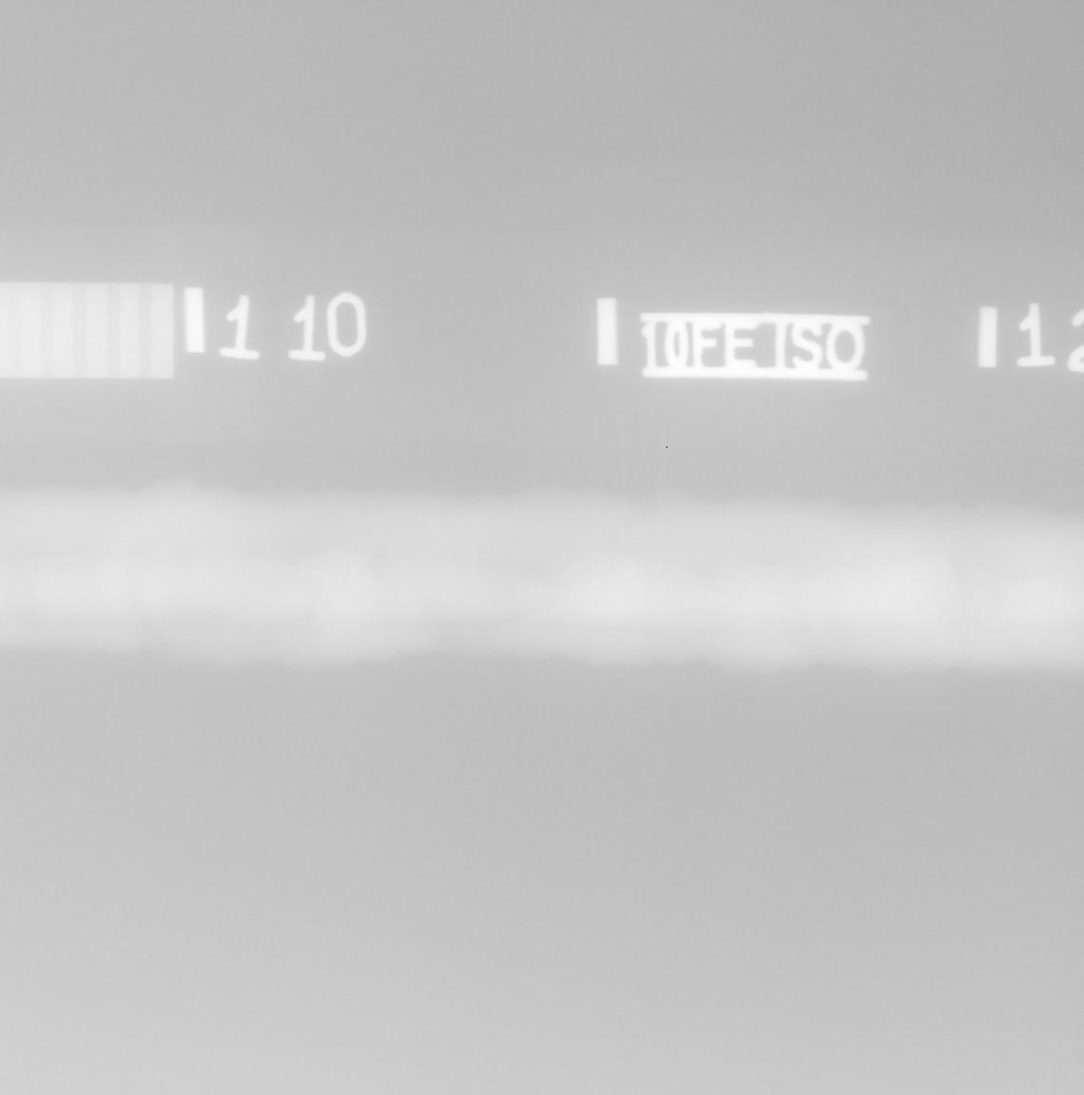Pore/Porosity: (507, 586, 516, 594), (29, 585, 36, 591), (435, 598, 443, 603), (530, 567, 538, 571), (478, 560, 482, 564)
